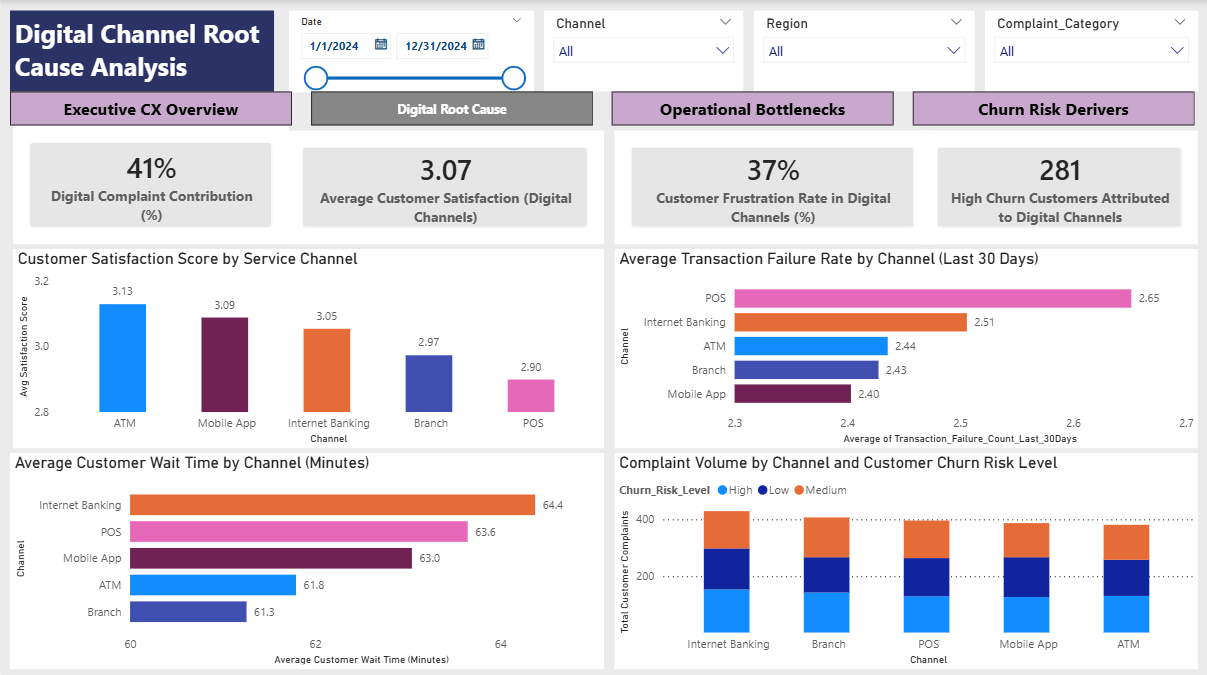

Layout of this report page (visuals, bound fields, positions):
{"tool":"powerbi","page":{"name":"Digital Root Cause","canvas":[1280,720],"ordinal":1},"visuals":[{"type":"textbox","box":[9.7,11.3,280.1,85.8],"z":0},{"type":"slicer","fields":{"Values":["Dim_Date.Date"]},"box":[305.4,11.1,259.3,85.9],"z":1000},{"type":"cardVisual","fields":{"Data":["Fact_Complaints.Digital Complaint %"]},"box":[12.7,133.6,292.7,125.7],"z":2000},{"type":"cardVisual","fields":{"Data":["Fact_Complaints.Avg Satisfaction - Digital"]},"box":[302.2,138.4,337.2,120.9],"z":3000},{"type":"cardVisual","fields":{"Data":["Fact_Complaints.Digital Frustration Index (%)"]},"box":[650.6,138.4,335.6,120.9],"z":4000},{"type":"cardVisual","fields":{"Data":["Fact_Complaints.High Churn - Digital"]},"box":[975,138.4,294.3,120.9],"z":5000},{"type":"clusteredColumnChart","title":"Customer Satisfaction Score by Service Channel","fields":{"Category":["Dim_Channel.Channel"],"Y":["Fact_Complaints.Avg Satisfaction Score"]},"box":[12.7,264,626.7,211.6],"z":6000},{"type":"clusteredBarChart","title":"Average Transaction Failure Rate by Channel (Last 30 Days)","fields":{"Y":["Avg(Fact_Complaints.Transaction_Failure_Count_Last_30Days)"],"Category":["Dim_Channel.Channel"]},"box":[650.6,264,618.7,211.6],"z":7000},{"type":"clusteredBarChart","title":"Average Customer Wait Time by Channel (Minutes)","fields":{"Category":["Dim_Channel.Channel"],"Y":["Fact_Complaints.Avg Wait Time (Minutes)"]},"box":[9.5,480.4,629.9,229],"z":8000},{"type":"columnChart","title":"Complaint Volume by Channel and Customer Churn Risk Level","fields":{"Category":["Dim_Channel.Channel"],"Y":["Fact_Complaints.Total Complaints"],"Series":["Fact_Complaints.Churn_Risk_Level"]},"box":[650.6,480.4,618.7,229],"z":9000},{"type":"slicer","fields":{"Values":["Dim_Channel.Channel"]},"box":[575.8,11.1,211.6,85.9],"z":10000},{"type":"slicer","fields":{"Values":["Dim_Branch.Region"]},"box":[798.5,11.1,233.8,85.9],"z":11000},{"type":"slicer","fields":{"Values":["Dim_Complaint.Complaint_Category"]},"box":[1043.4,11.1,225.9,85.9],"z":12000},{"type":"pageNavigator","box":[9.5,97,1259.8,36.6],"z":13000}]}

Visuals, with their boxes in screenshot pixels (x1, y1, x2, y2), scaled from the page's 1280x720 canvas onto the 1207x675 screenshot:
textbox: Rect(9, 11, 273, 91)
slicer - Dim_Date.Date: Rect(288, 10, 532, 91)
cardVisual - Fact_Complaints.Digital Complaint %: Rect(12, 125, 288, 243)
cardVisual - Fact_Complaints.Avg Satisfaction - Digital: Rect(285, 130, 603, 243)
cardVisual - Fact_Complaints.Digital Frustration Index (%): Rect(613, 130, 930, 243)
cardVisual - Fact_Complaints.High Churn - Digital: Rect(919, 130, 1197, 243)
"Customer Satisfaction Score by Service Channel" clusteredColumnChart: Rect(12, 248, 603, 446)
"Average Transaction Failure Rate by Channel (Last 30 Days)" clusteredBarChart: Rect(613, 248, 1197, 446)
"Average Customer Wait Time by Channel (Minutes)" clusteredBarChart: Rect(9, 450, 603, 665)
"Complaint Volume by Channel and Customer Churn Risk Level" columnChart: Rect(613, 450, 1197, 665)
slicer - Dim_Channel.Channel: Rect(543, 10, 742, 91)
slicer - Dim_Branch.Region: Rect(753, 10, 973, 91)
slicer - Dim_Complaint.Complaint_Category: Rect(984, 10, 1197, 91)
pageNavigator: Rect(9, 91, 1197, 125)
